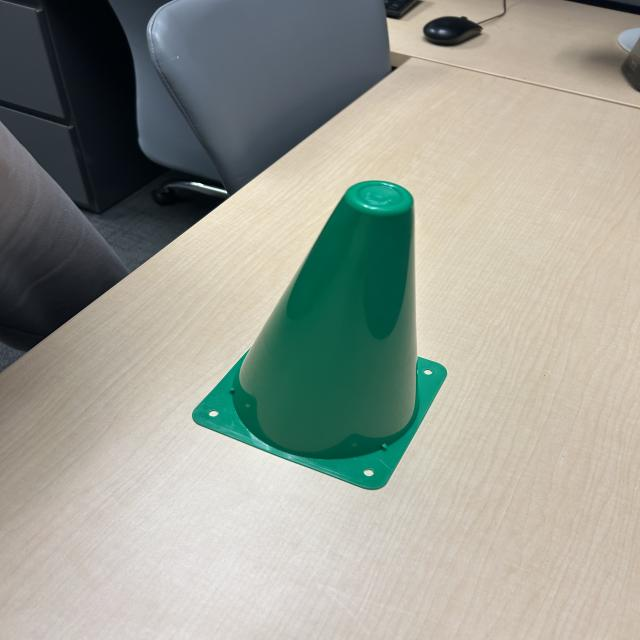green cone: (182, 176, 458, 498)
